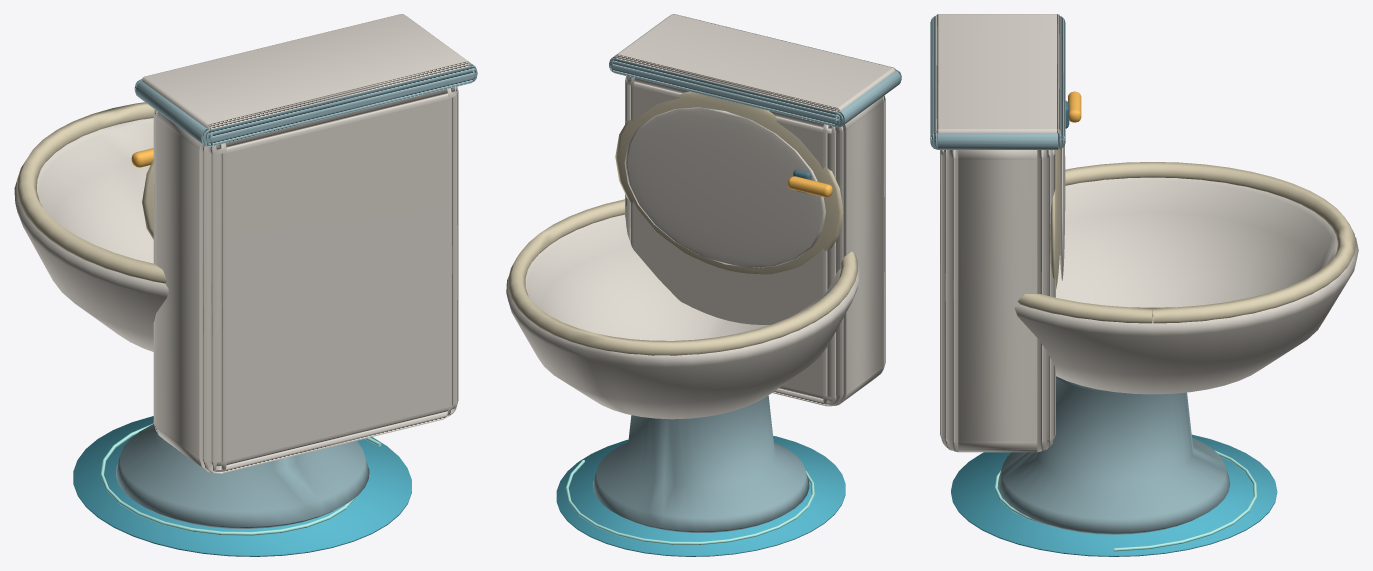
Rendered from toilet.glb.
The picture shows the model from 3 angles, left to right: view 1: azimuth 30°, elevation 25°; view 2: azimuth 150°, elevation 25°; view 3: azimuth 270°, elevation 25°; orthographic projection. The views are drawn at different scales.
Parts seen in each view (by area): view 1: toilet.Static.ceramic, toilet.Moving.ceramic, toilet.Moving.vinyl; view 2: toilet.Static.ceramic, toilet.Moving.ceramic, toilet.Moving.vinyl, toilet.Static.metal; view 3: toilet.Static.ceramic, toilet.Moving.ceramic, toilet.Moving.vinyl.
Part boxes in pixels (<box>): toilet.Static.ceramic: <box>14,14,477,528</box>; toilet.Moving.ceramic: <box>73,416,411,556</box>; toilet.Moving.vinyl: <box>100,423,381,535</box>; toilet.Static.ceramic: <box>506,14,901,532</box>; toilet.Moving.ceramic: <box>556,435,845,556</box>; toilet.Moving.vinyl: <box>565,460,814,544</box>; toilet.Static.metal: <box>788,169,832,197</box>; toilet.Static.ceramic: <box>930,14,1358,534</box>; toilet.Moving.ceramic: <box>951,434,1277,556</box>; toilet.Moving.vinyl: <box>994,450,1257,551</box>.
Size of the model in its own units: 9.5 by 11.99 by 11.07.
